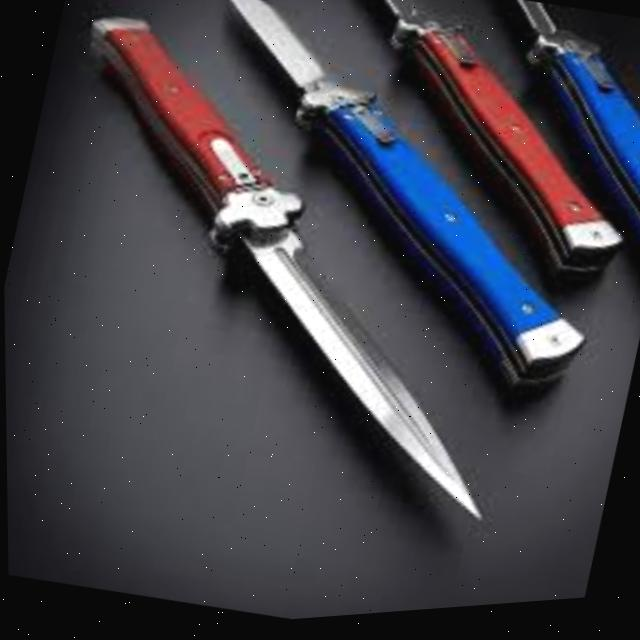knife: (0, 0, 580, 555), (128, 0, 640, 433), (366, 0, 640, 419)
